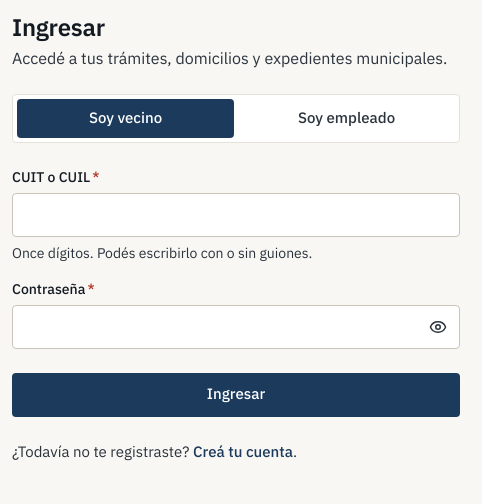
Test case: validación › el error se borra al corregir el campo
Click the button "Ingresar" at (236, 394), box [12,372,460,416]
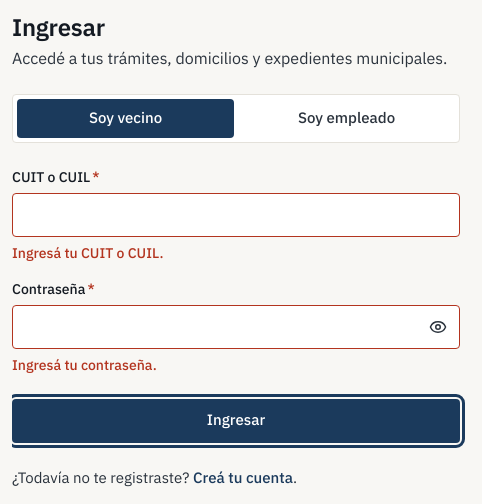
Now the text "Ingresá tu CUIT o CUIL." is shown, box [12,244,164,262]
Type "2" into the field labelled "CUIT o CUIL" at (236, 214), box [12,192,460,236]
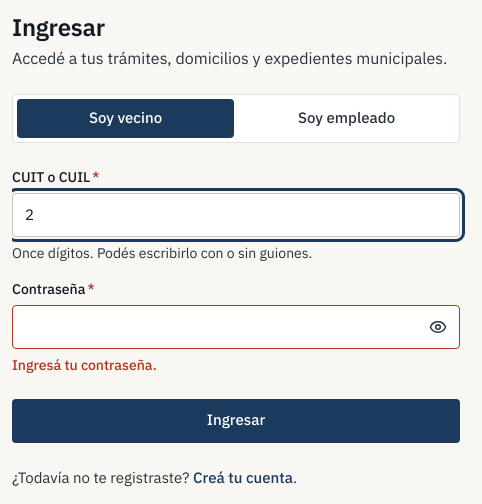
Now the text "Ingresá tu CUIT" is gone
